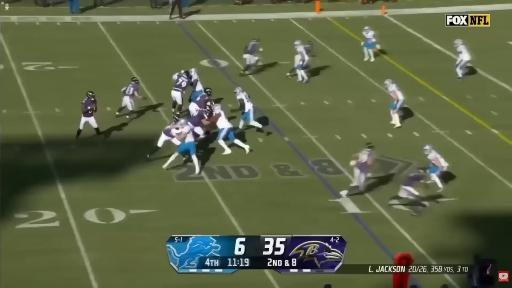Helmet: (423, 144, 433, 154), (205, 100, 215, 110), (178, 119, 188, 127), (364, 141, 374, 149), (454, 39, 463, 47), (416, 168, 427, 174), (204, 88, 212, 96), (234, 87, 243, 94), (130, 76, 139, 83), (86, 91, 95, 98), (384, 79, 392, 86), (182, 71, 189, 78), (213, 105, 222, 110), (191, 68, 197, 74), (294, 40, 301, 45), (365, 26, 370, 33), (174, 116, 179, 123), (255, 39, 260, 43), (308, 41, 313, 44)
Jersey: (356, 149, 374, 173), (171, 126, 194, 142), (427, 150, 448, 167), (214, 111, 232, 129), (188, 110, 206, 127), (237, 92, 253, 111), (173, 73, 189, 92), (402, 173, 425, 186), (387, 84, 404, 101), (82, 98, 97, 117), (122, 82, 138, 98), (456, 45, 471, 61), (296, 45, 309, 63), (194, 94, 208, 108), (244, 41, 257, 55), (191, 75, 203, 90), (363, 30, 375, 42), (163, 126, 175, 138), (304, 43, 313, 57)
Player: (207, 104, 250, 154), (163, 119, 199, 174), (147, 116, 180, 157), (398, 170, 428, 215), (350, 143, 375, 191), (76, 91, 101, 138), (235, 87, 262, 129), (424, 145, 448, 191), (116, 77, 141, 118), (385, 80, 404, 127), (398, 170, 425, 199), (171, 71, 189, 113), (242, 38, 261, 74), (189, 88, 212, 116), (455, 39, 471, 79), (294, 40, 309, 82), (362, 26, 379, 61), (188, 109, 207, 138), (189, 68, 203, 102), (304, 40, 315, 58)
